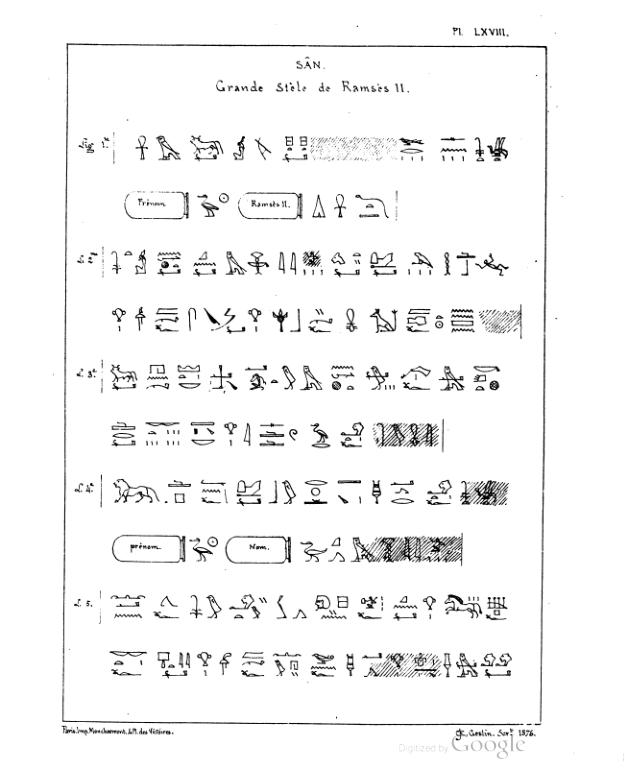circle: (106, 531, 188, 571), (220, 531, 299, 571), (233, 187, 310, 223), (120, 186, 196, 221)
